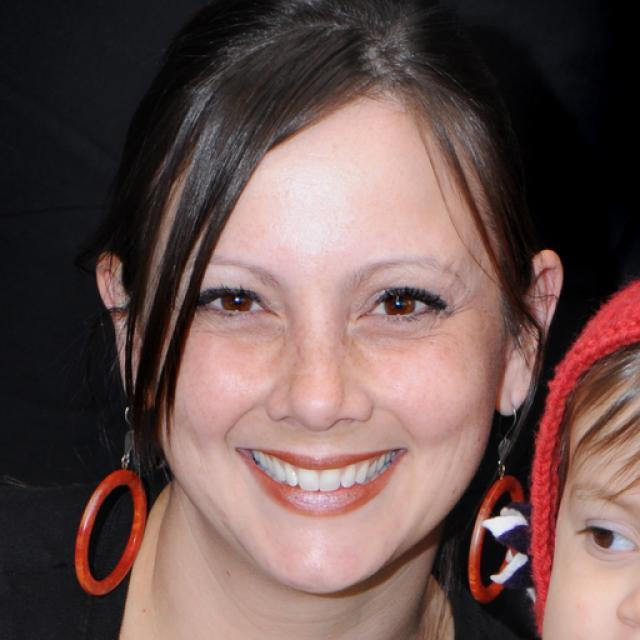happy: (138, 75, 501, 594), (545, 346, 640, 640)
